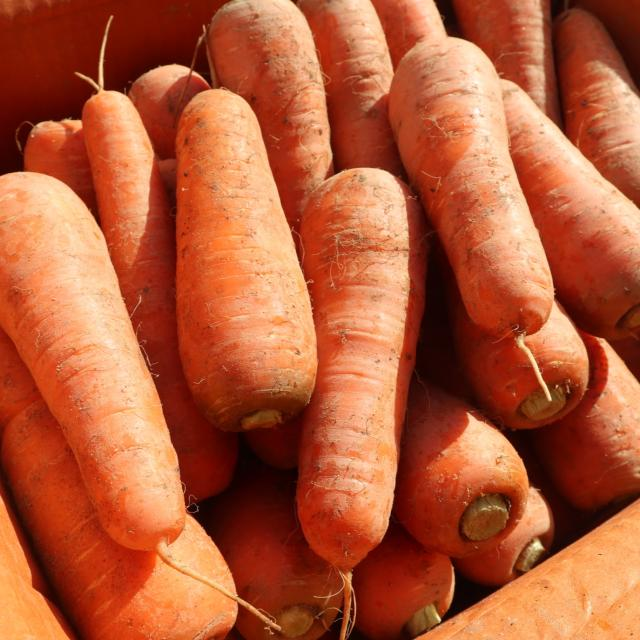carrot: (0, 168, 192, 575), (299, 169, 427, 579), (389, 38, 559, 341), (175, 87, 320, 429)
